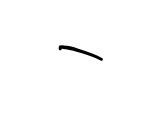minus: (57, 43, 102, 63)
